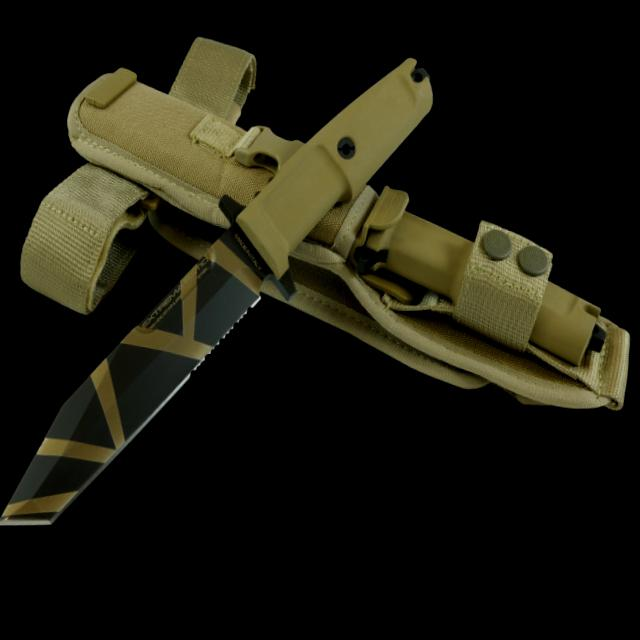knife: (0, 183, 285, 581)
